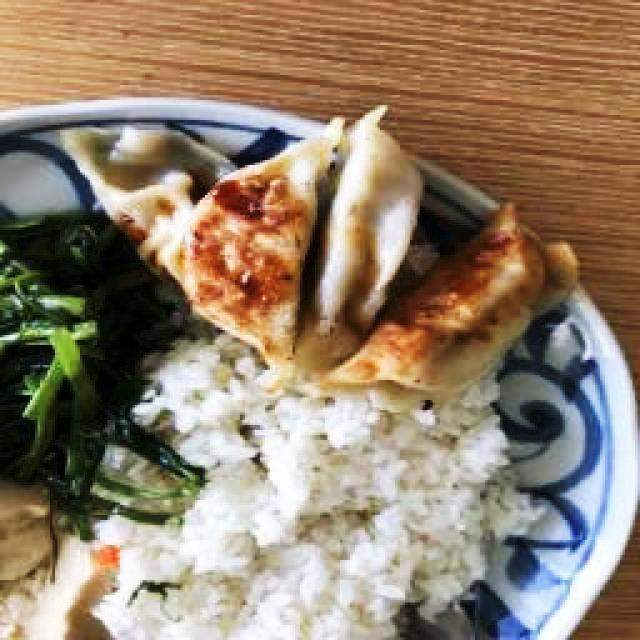fried_dumplings: (325, 201, 580, 394), (185, 118, 310, 362), (74, 126, 246, 291), (317, 105, 422, 348)
rice: (82, 331, 552, 637)
water_spinach: (0, 215, 201, 529)
